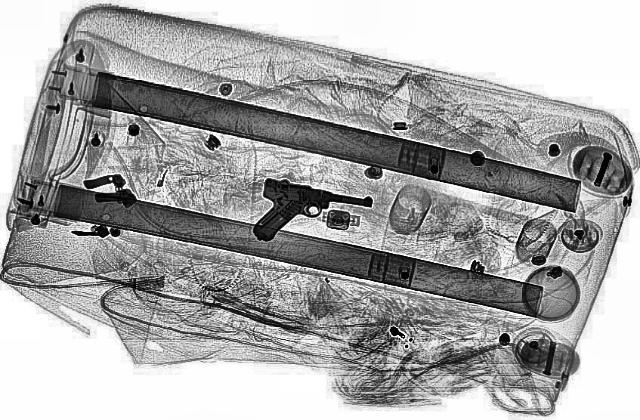Gun: (237, 178, 376, 256)
